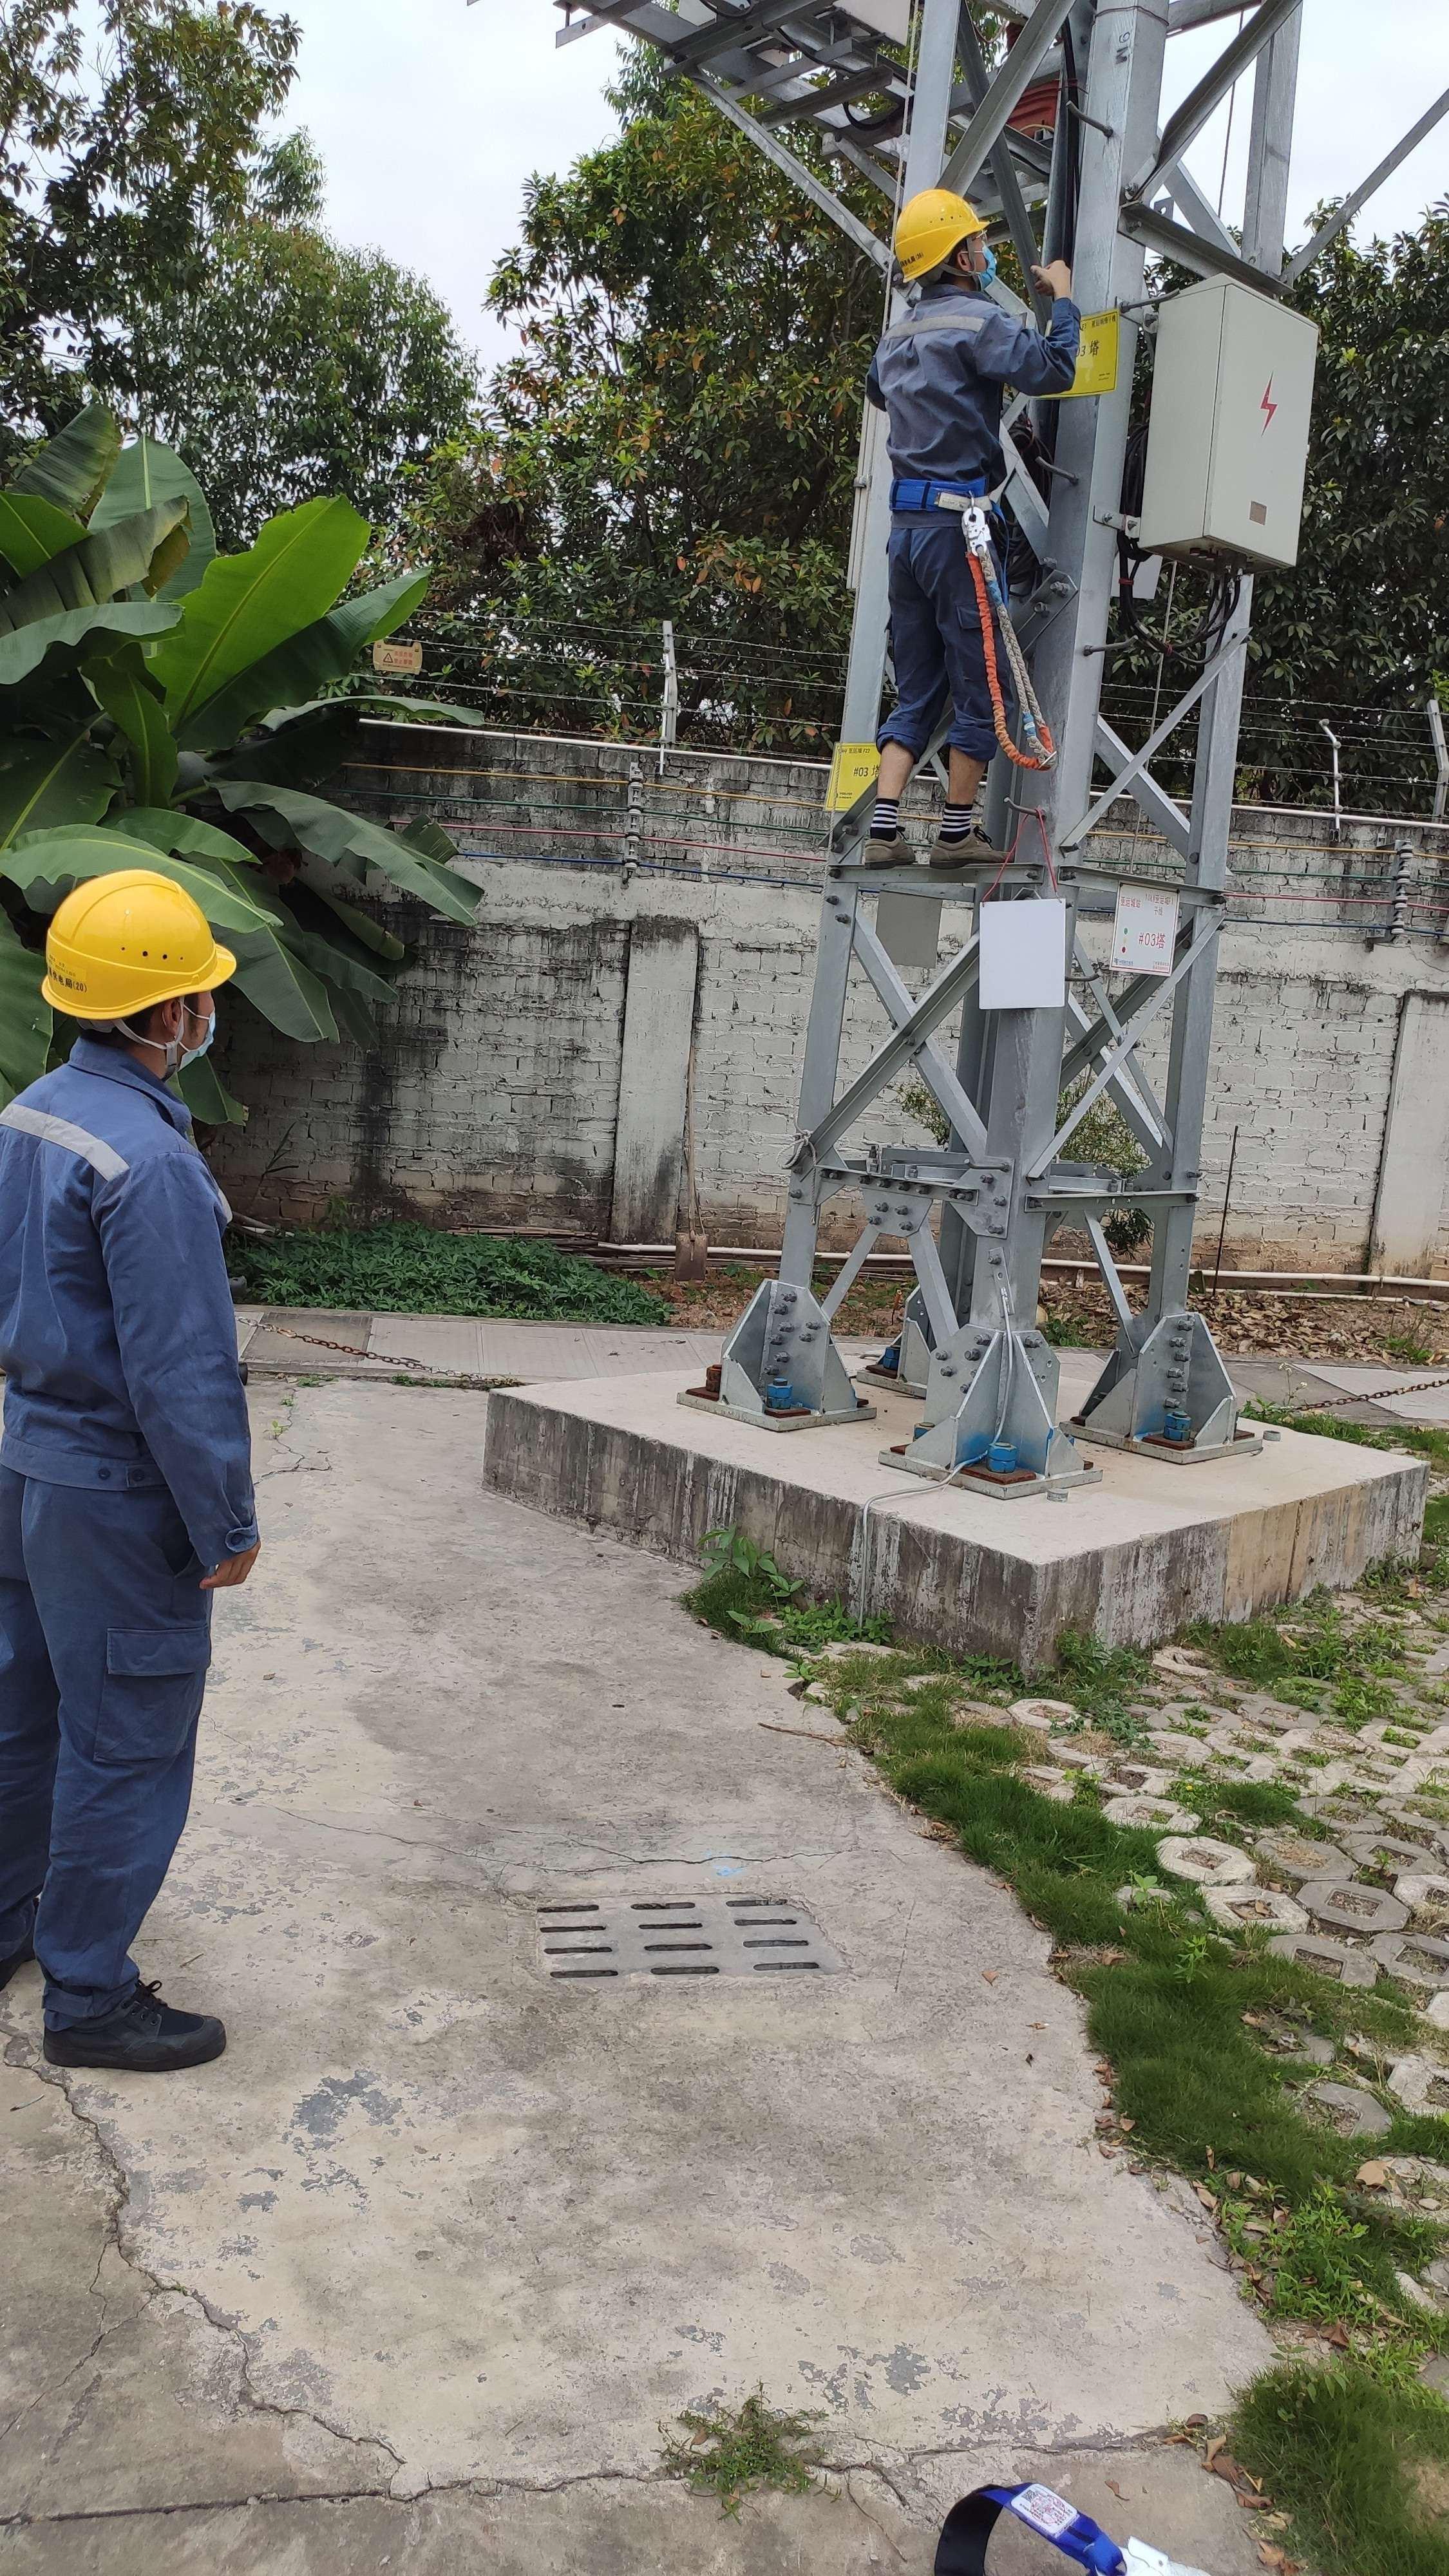downsuit: (4, 1506, 221, 1996), (878, 529, 1017, 768)
upsuit: (2, 1044, 260, 1479), (869, 285, 1079, 515)
wrongbottom: (863, 725, 998, 839)
